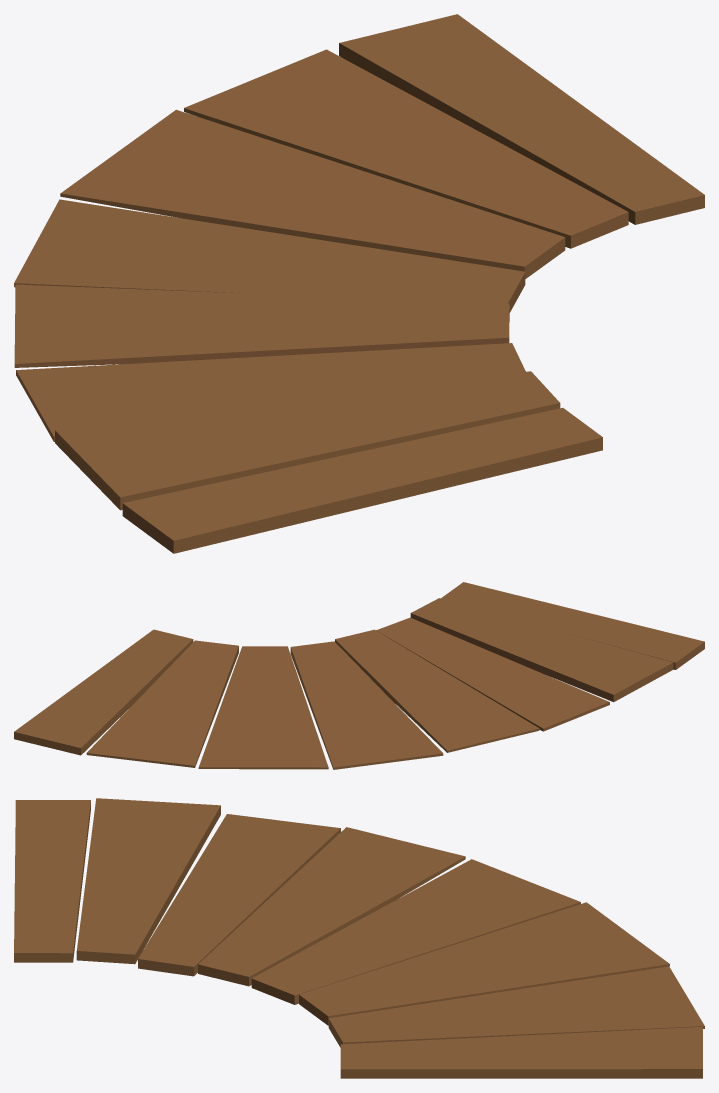
Rendered from jettiboard_turn_01_a.fbx.
3 views of the same model, one above another, from view 1: azimuth 30°, elevation 25°; view 2: azimuth 150°, elevation 25°; view 3: azimuth 270°, elevation 25° (orthographic). The views are drawn at different scales.
Parts seen in each view (by area): view 1: JettiBoard_Turn_01_a; view 2: JettiBoard_Turn_01_a; view 3: JettiBoard_Turn_01_a.
Part boxes in pixels (box(x1,y1,x2,y2)): JettiBoard_Turn_01_a: box(14, 14, 704, 553); JettiBoard_Turn_01_a: box(14, 582, 704, 769); JettiBoard_Turn_01_a: box(14, 798, 704, 1078).
Size of the model in its own units: 72.92 by 79.07 by 1.79.
